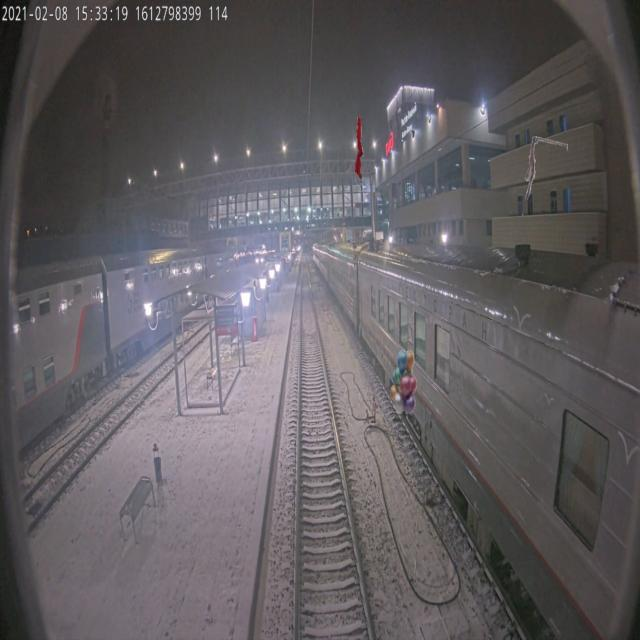balloon: (390, 349, 417, 414)
floating object: (524, 137, 568, 200), (354, 115, 364, 179)
